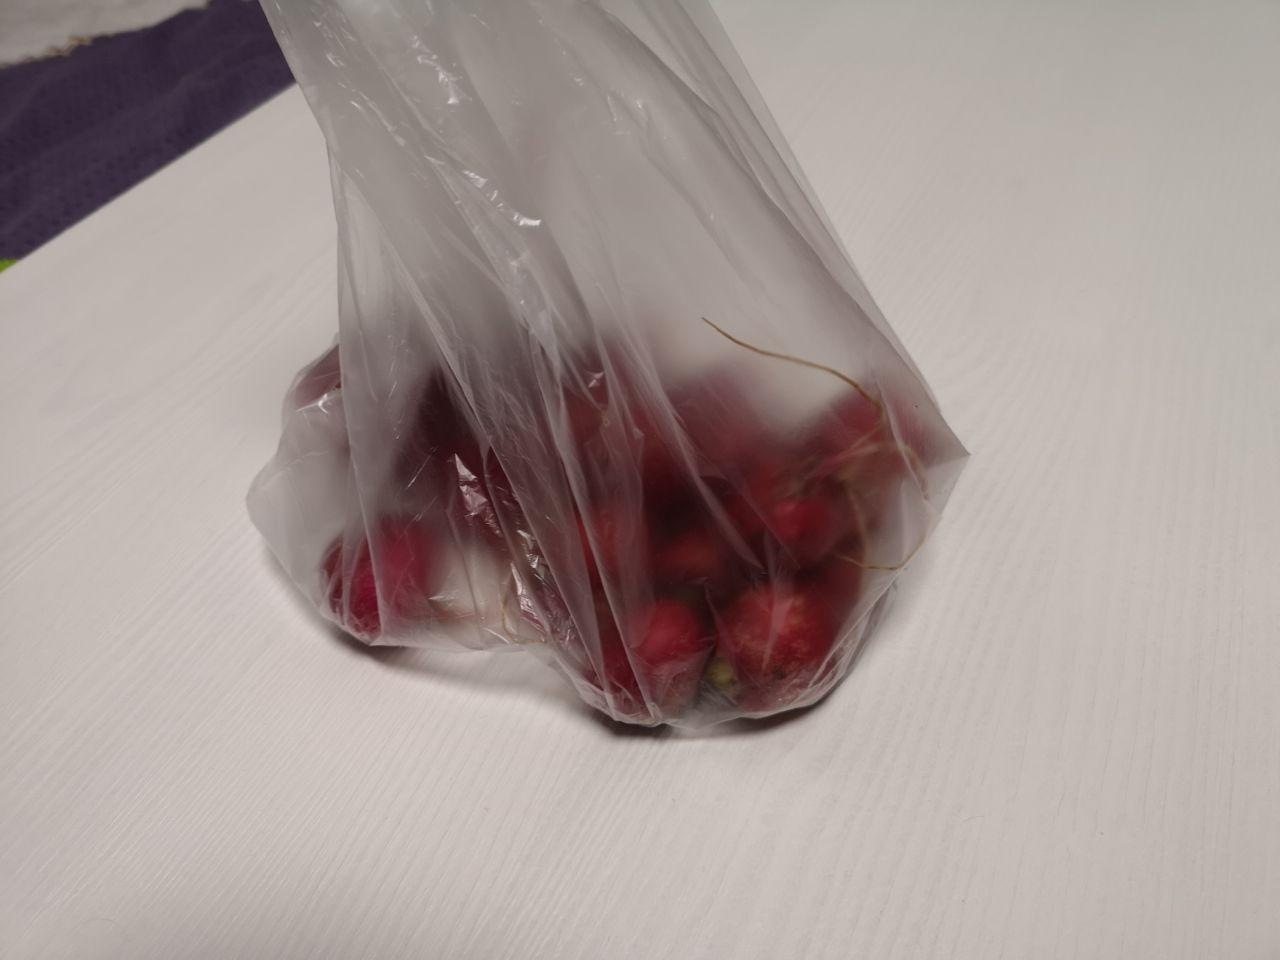redish: (287, 279, 964, 744)
